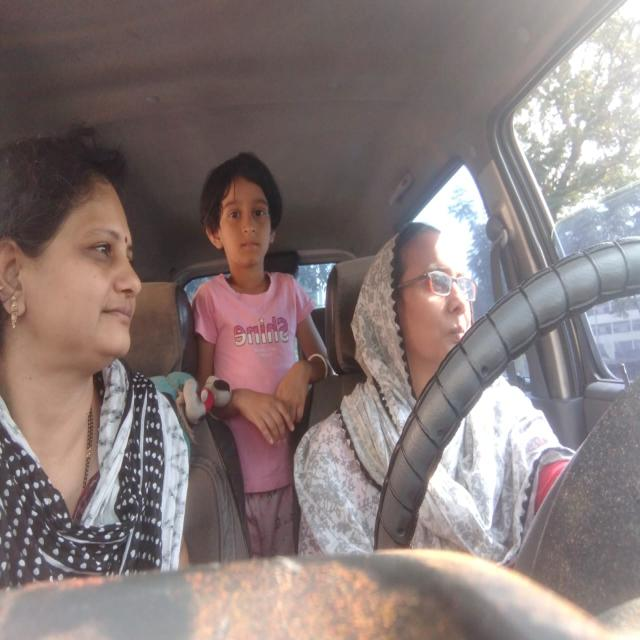person: (2, 116, 153, 430), (364, 198, 504, 422), (185, 127, 308, 295)
